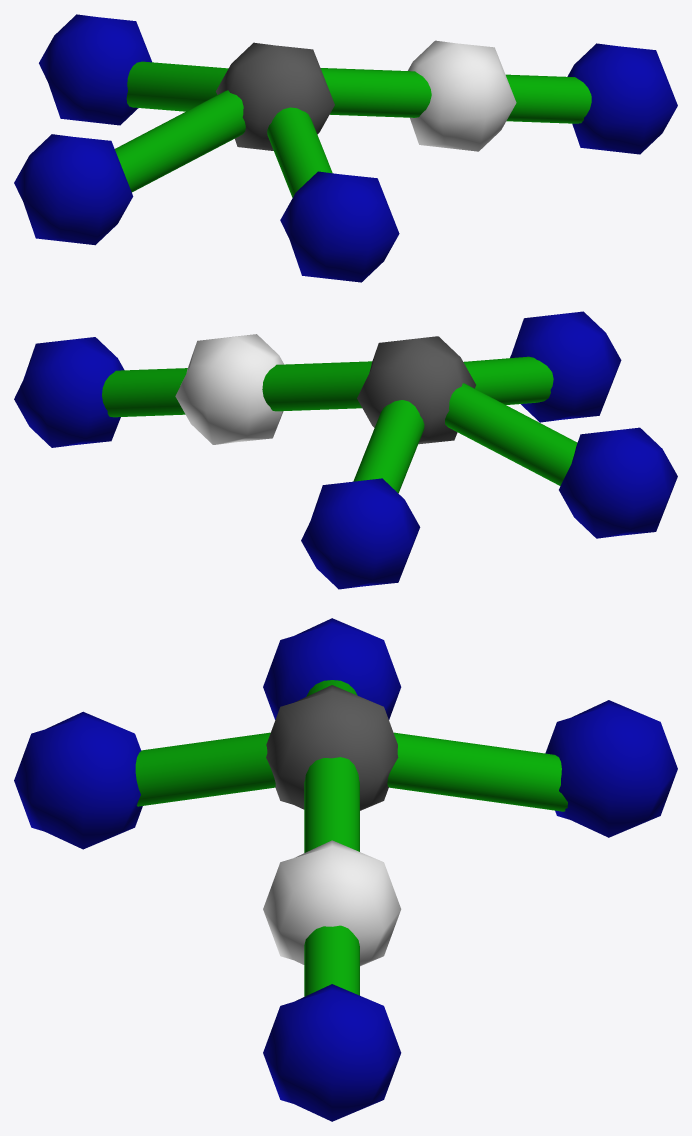
The model's file is Methanol.fbx.
3 renders of one model, top to bottom at view 1: azimuth 30°, elevation 25°; view 2: azimuth 150°, elevation 25°; view 3: azimuth 270°, elevation 25°, orthographic. The views are drawn at different scales.
Parts seen in each view (by area): view 1: pCube7; view 2: pCube7; view 3: pCube7.
Part boxes in pixels (x1,y1,x2,y2): pCube7: (14, 14, 677, 282); pCube7: (14, 311, 677, 589); pCube7: (14, 618, 677, 1121).
Size of the model in its own units: 32 by 9 by 24.
